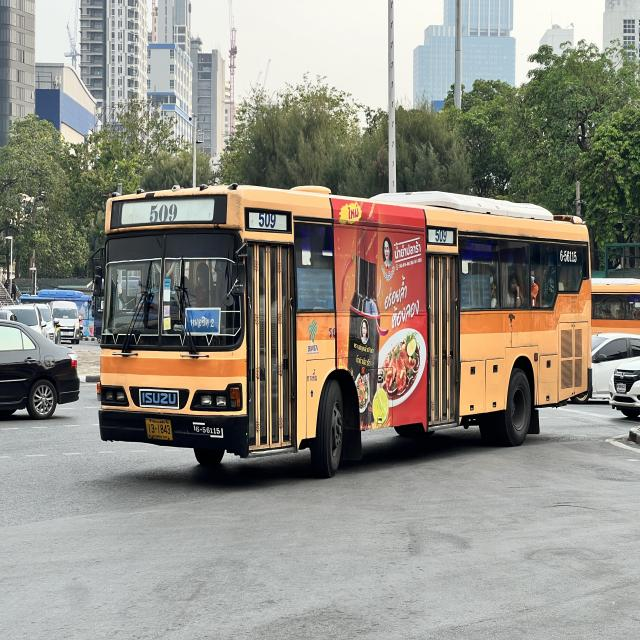BMTA-bus: (89, 176, 594, 484)
Bus-Line-Number: (146, 202, 180, 222)
Destination-Sign-Normal: (184, 307, 220, 334)
